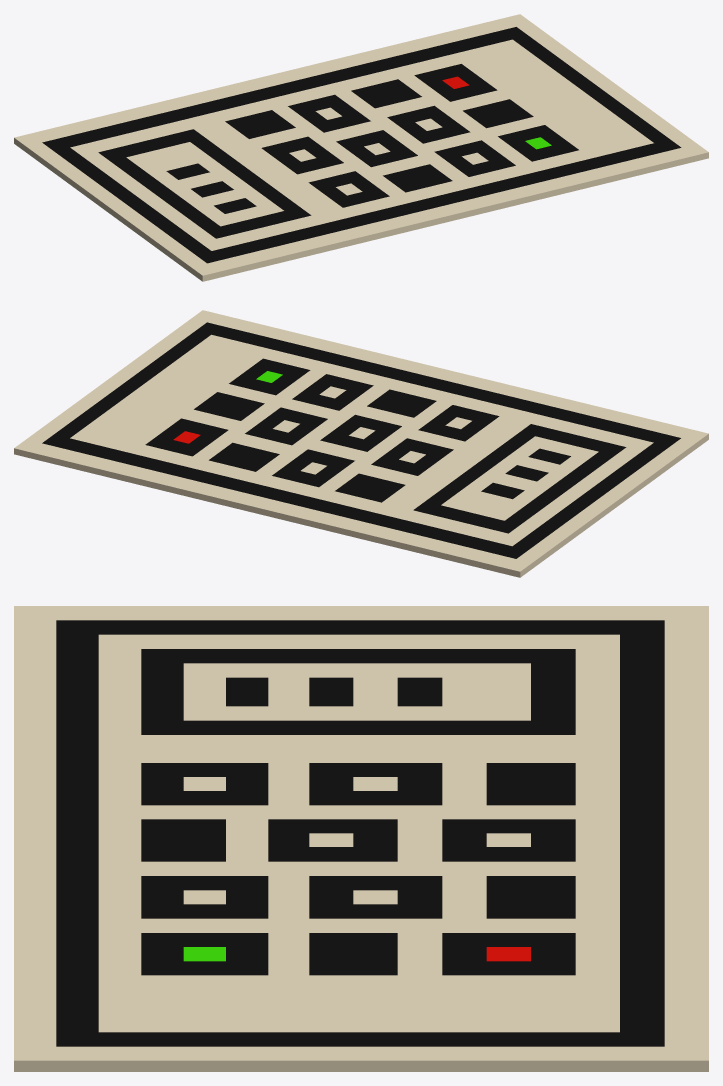
The model's file is drawing5.fbx.
3 views of the same model, one above another, from view 1: azimuth 30°, elevation 25°; view 2: azimuth 150°, elevation 25°; view 3: azimuth 270°, elevation 25° (orthographic). The views are drawn at different scales.
Visible parts, largest first — view 1: Cube; view 2: Cube; view 3: Cube.
Part boxes in pixels (x1,y1,x2,y2): Cube: (14,14,708,281); Cube: (14,310,708,577); Cube: (14,606,708,1071).
Bounding box in the file's own units: 87 × 1 × 56.2.
